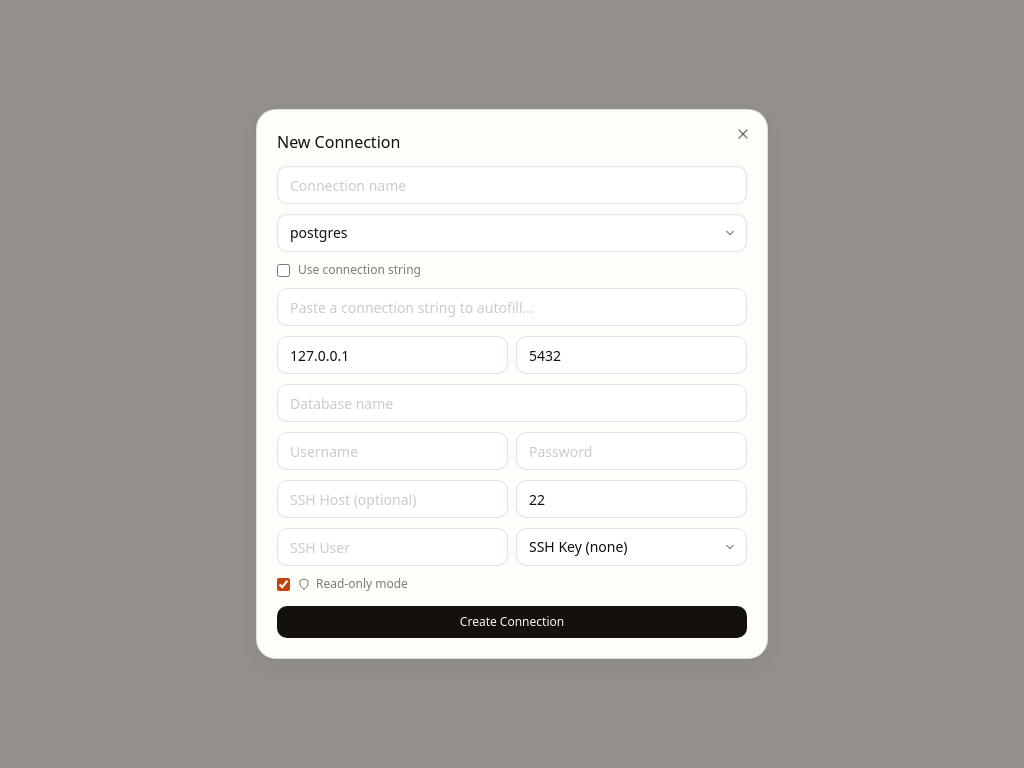
Scenario: ConnectionSelector — Google Analytics 4 source (SCN-113) › says a key has never been checked rather than letting silence read as approval
The image size is (1024, 768).
Select "Google Analytics 4" in the dropdown named "Database type": (512, 233) [277, 214, 747, 252]
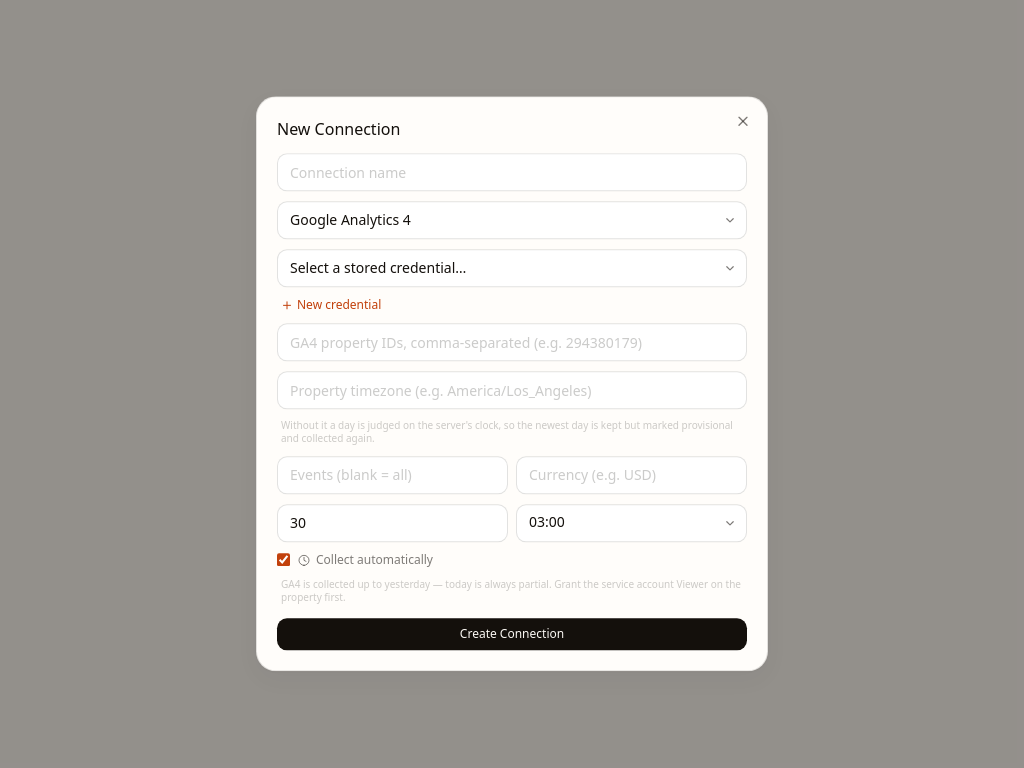
Select "analytics-sa — collector@proj.iam.gserviceaccount.com" in the dropdown named "GA4 vendor credential": (512, 268) [277, 249, 747, 287]
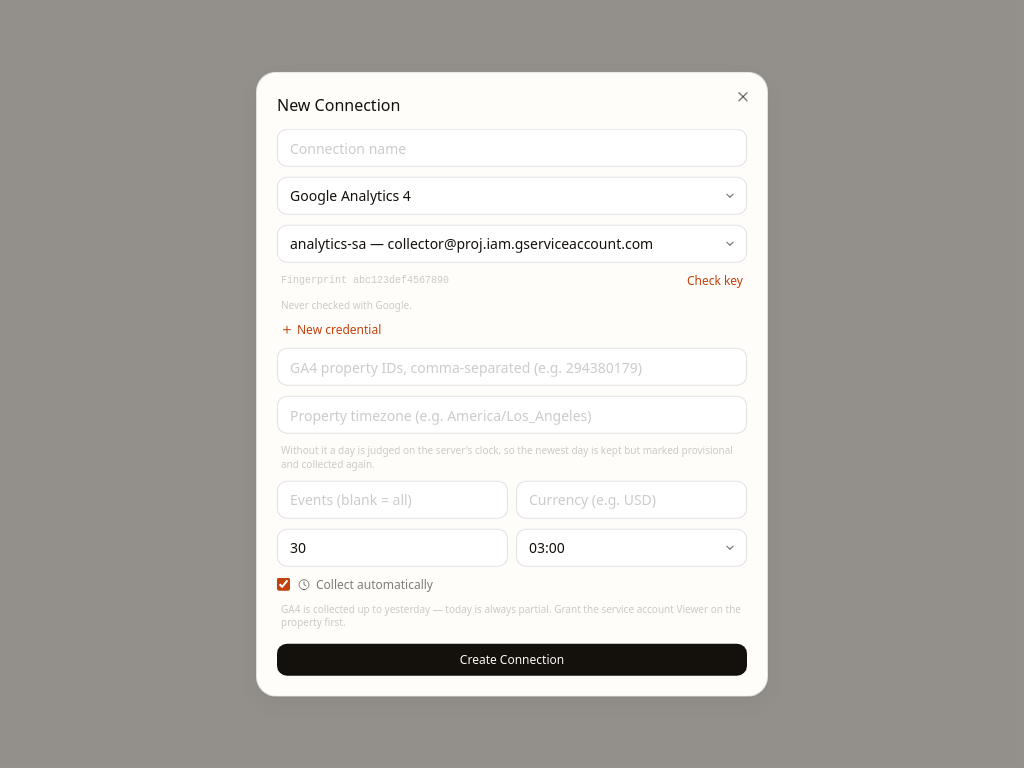
Check: the text with test id "credential-verdict" shows "Never checked", box [281, 298, 412, 312]
